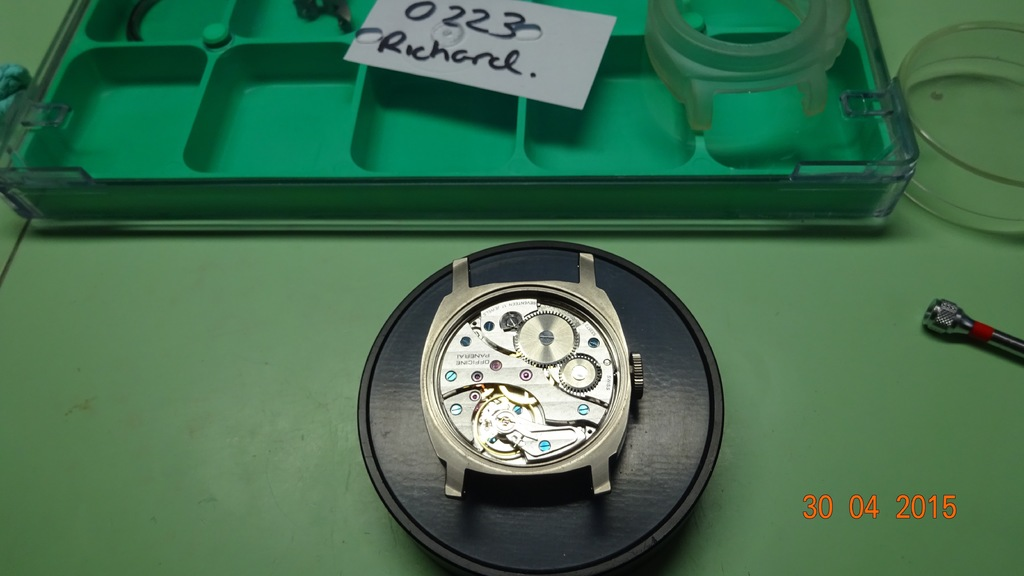watch: (418, 249, 638, 497)
